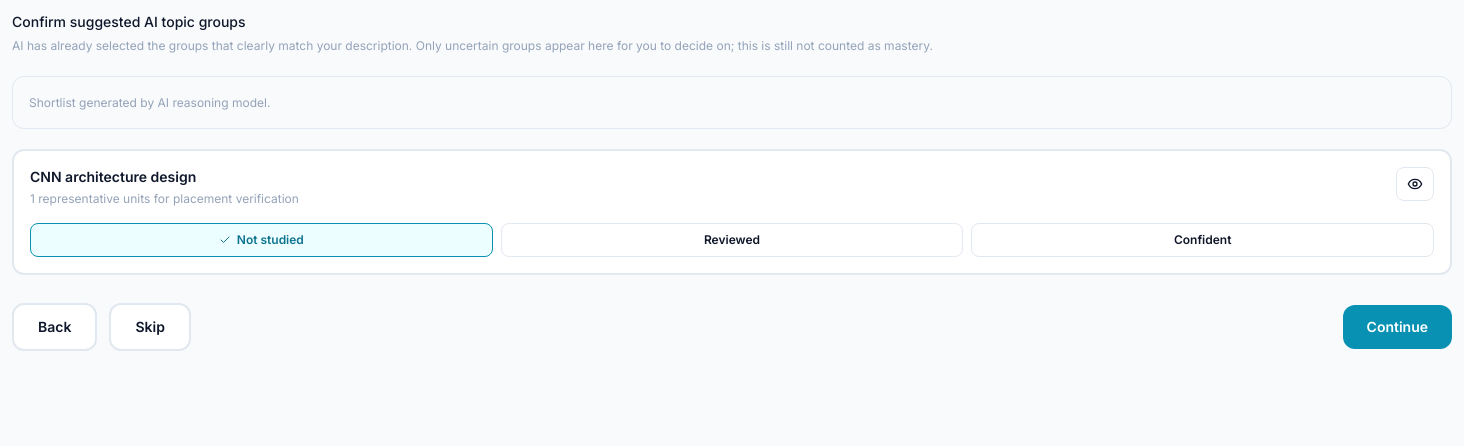
StepKnownTopicsFiltered › falls back to raw representative units when no AI summary exists
Click the button named "Quick view CNN architecture design".
click(1415, 184)  # box [1396,167,1434,201]
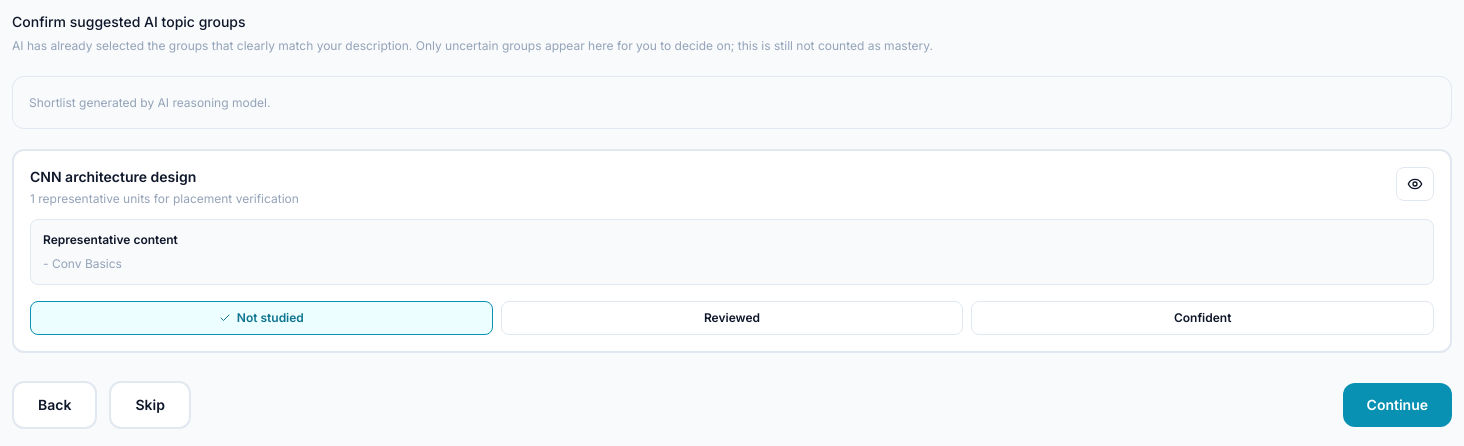
Check: the list item "- Conv Basics" is shown, box [43,256,122,271]
